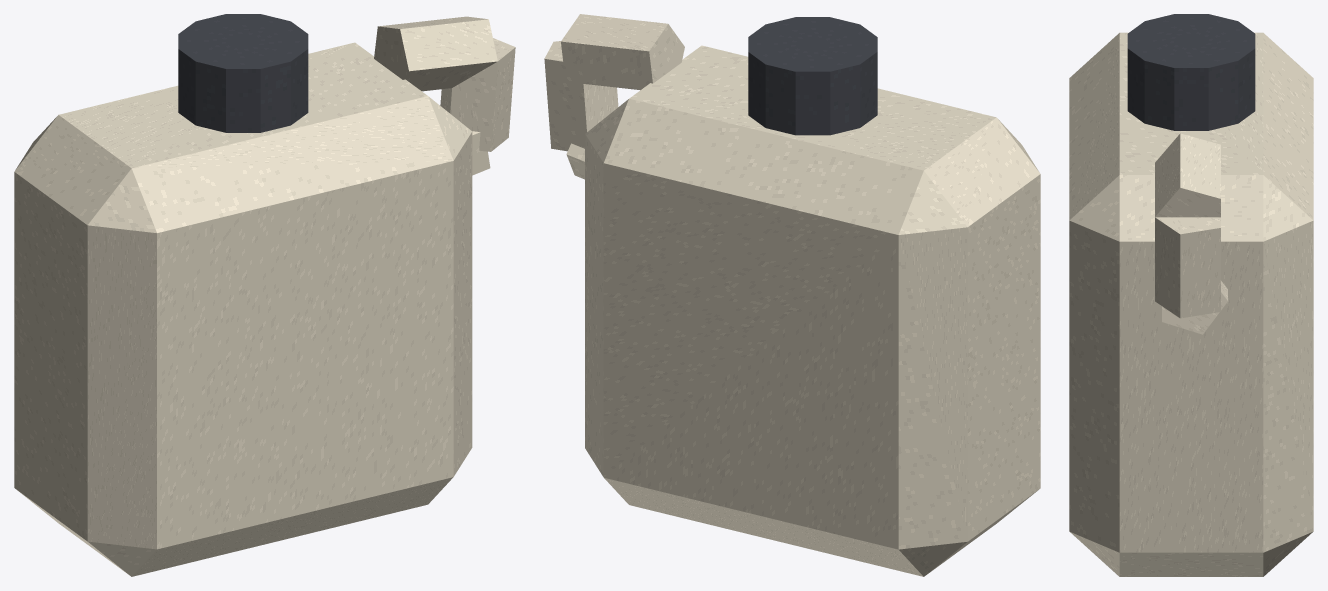
The model's file is jug_plastic_glue.glb.
The picture shows the model from 3 angles, left to right: view 1: azimuth 30°, elevation 25°; view 2: azimuth 150°, elevation 25°; view 3: azimuth 270°, elevation 25°; orthographic projection.
Parts seen in each view (by area): view 1: block_glue jug, block_threaded cap, block_jug handle 2, block_jug handle 1; view 2: block_glue jug, block_threaded cap, block_jug handle 2, block_jug handle 1; view 3: block_glue jug, block_threaded cap, block_jug handle 1, block_jug handle 2, block_jug handle 0.
Part boxes in pixels (x1,y1,x2,y2): block_glue jug: [14, 42, 472, 576]; block_threaded cap: [178, 14, 308, 132]; block_jug handle 2: [374, 16, 497, 91]; block_jug handle 1: [440, 38, 515, 151]; block_glue jug: [585, 45, 1040, 576]; block_threaded cap: [748, 17, 877, 135]; block_jug handle 2: [561, 14, 684, 90]; block_jug handle 1: [544, 41, 618, 151]; block_glue jug: [1069, 32, 1313, 576]; block_threaded cap: [1127, 14, 1255, 130]; block_jug handle 1: [1155, 217, 1220, 318]; block_jug handle 2: [1155, 133, 1220, 217]; block_jug handle 0: [1162, 281, 1227, 334].
Size of the model in its own units: 0.28 by 0.2755 by 0.1312.
1 material, 1 textured.
